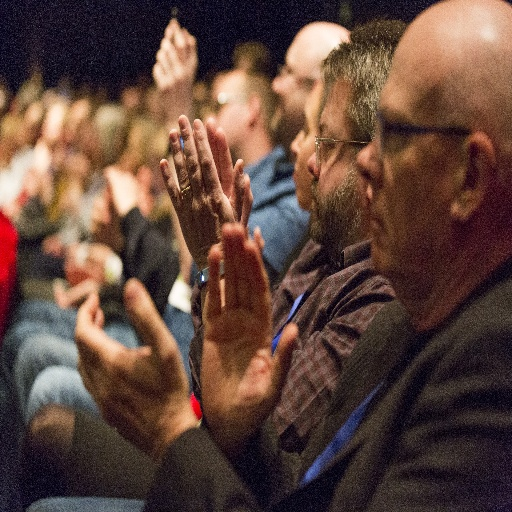hand: (200, 221, 299, 447), (74, 278, 189, 458), (184, 116, 254, 231), (152, 28, 197, 118), (165, 17, 189, 61)
